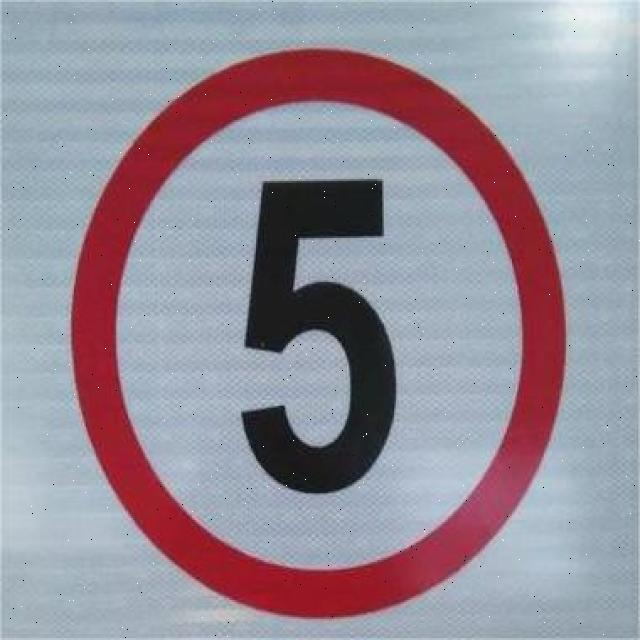speed limit 10: (66, 47, 568, 619)
